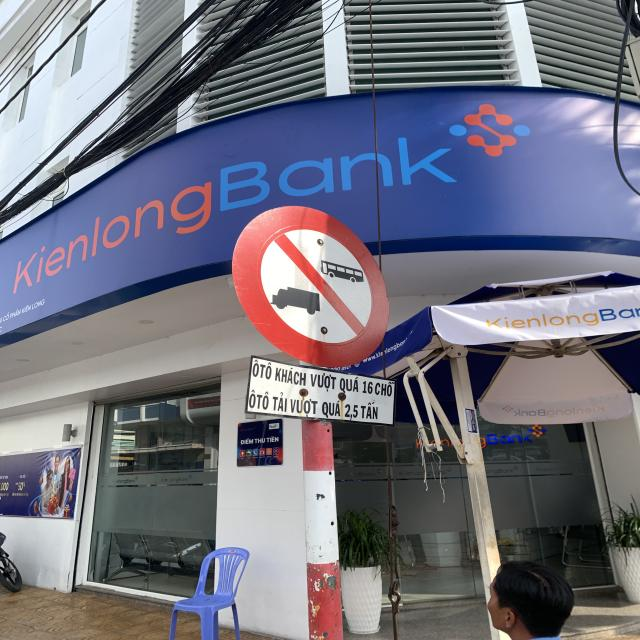Cam_XeTai_XeKhach: (230, 205, 391, 366)
